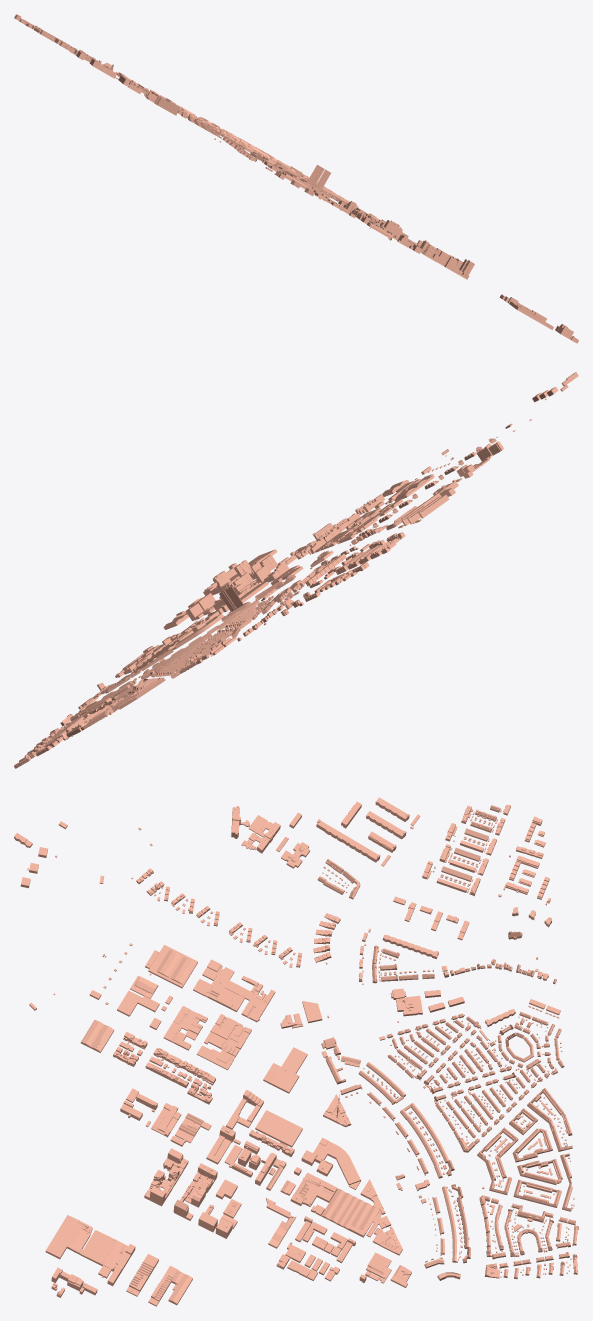
3 views of the same model, one above another, from view 1: azimuth 30°, elevation 25°; view 2: azimuth 150°, elevation 25°; view 3: azimuth 270°, elevation 25° (orthographic). The views are drawn at different scales.
Size of the model in its own units: 3.47e+07 by 2.57e+07 by 4.19e+07.
